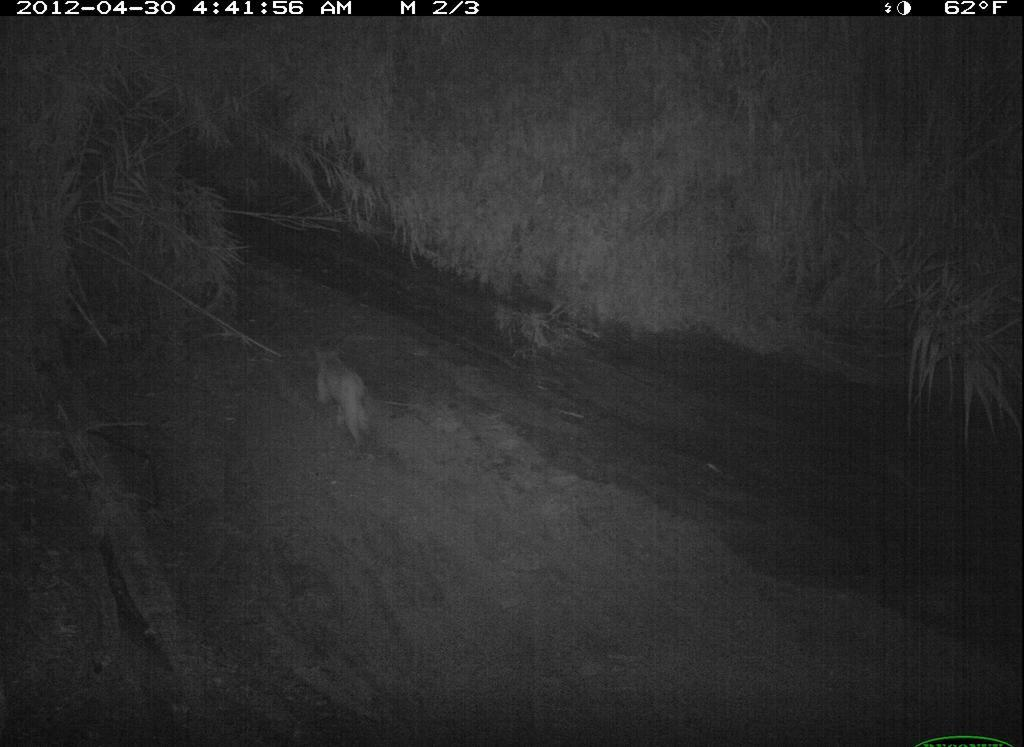bobcat: (607, 679, 758, 747)
